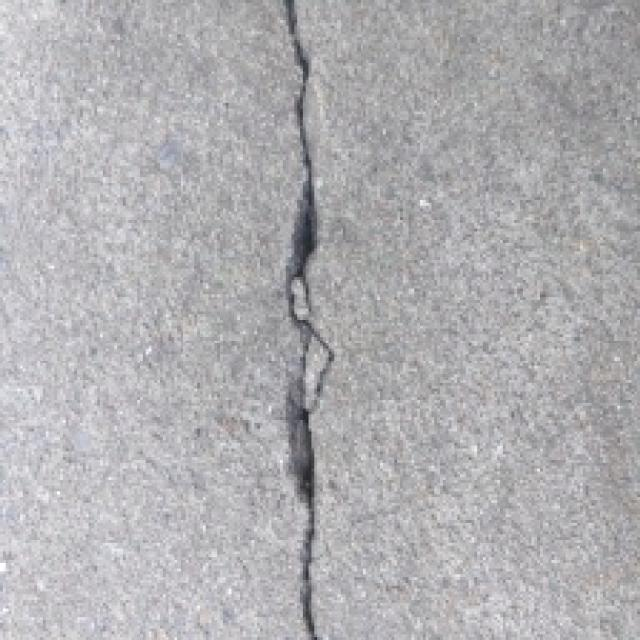crack: (226, 0, 380, 640)
